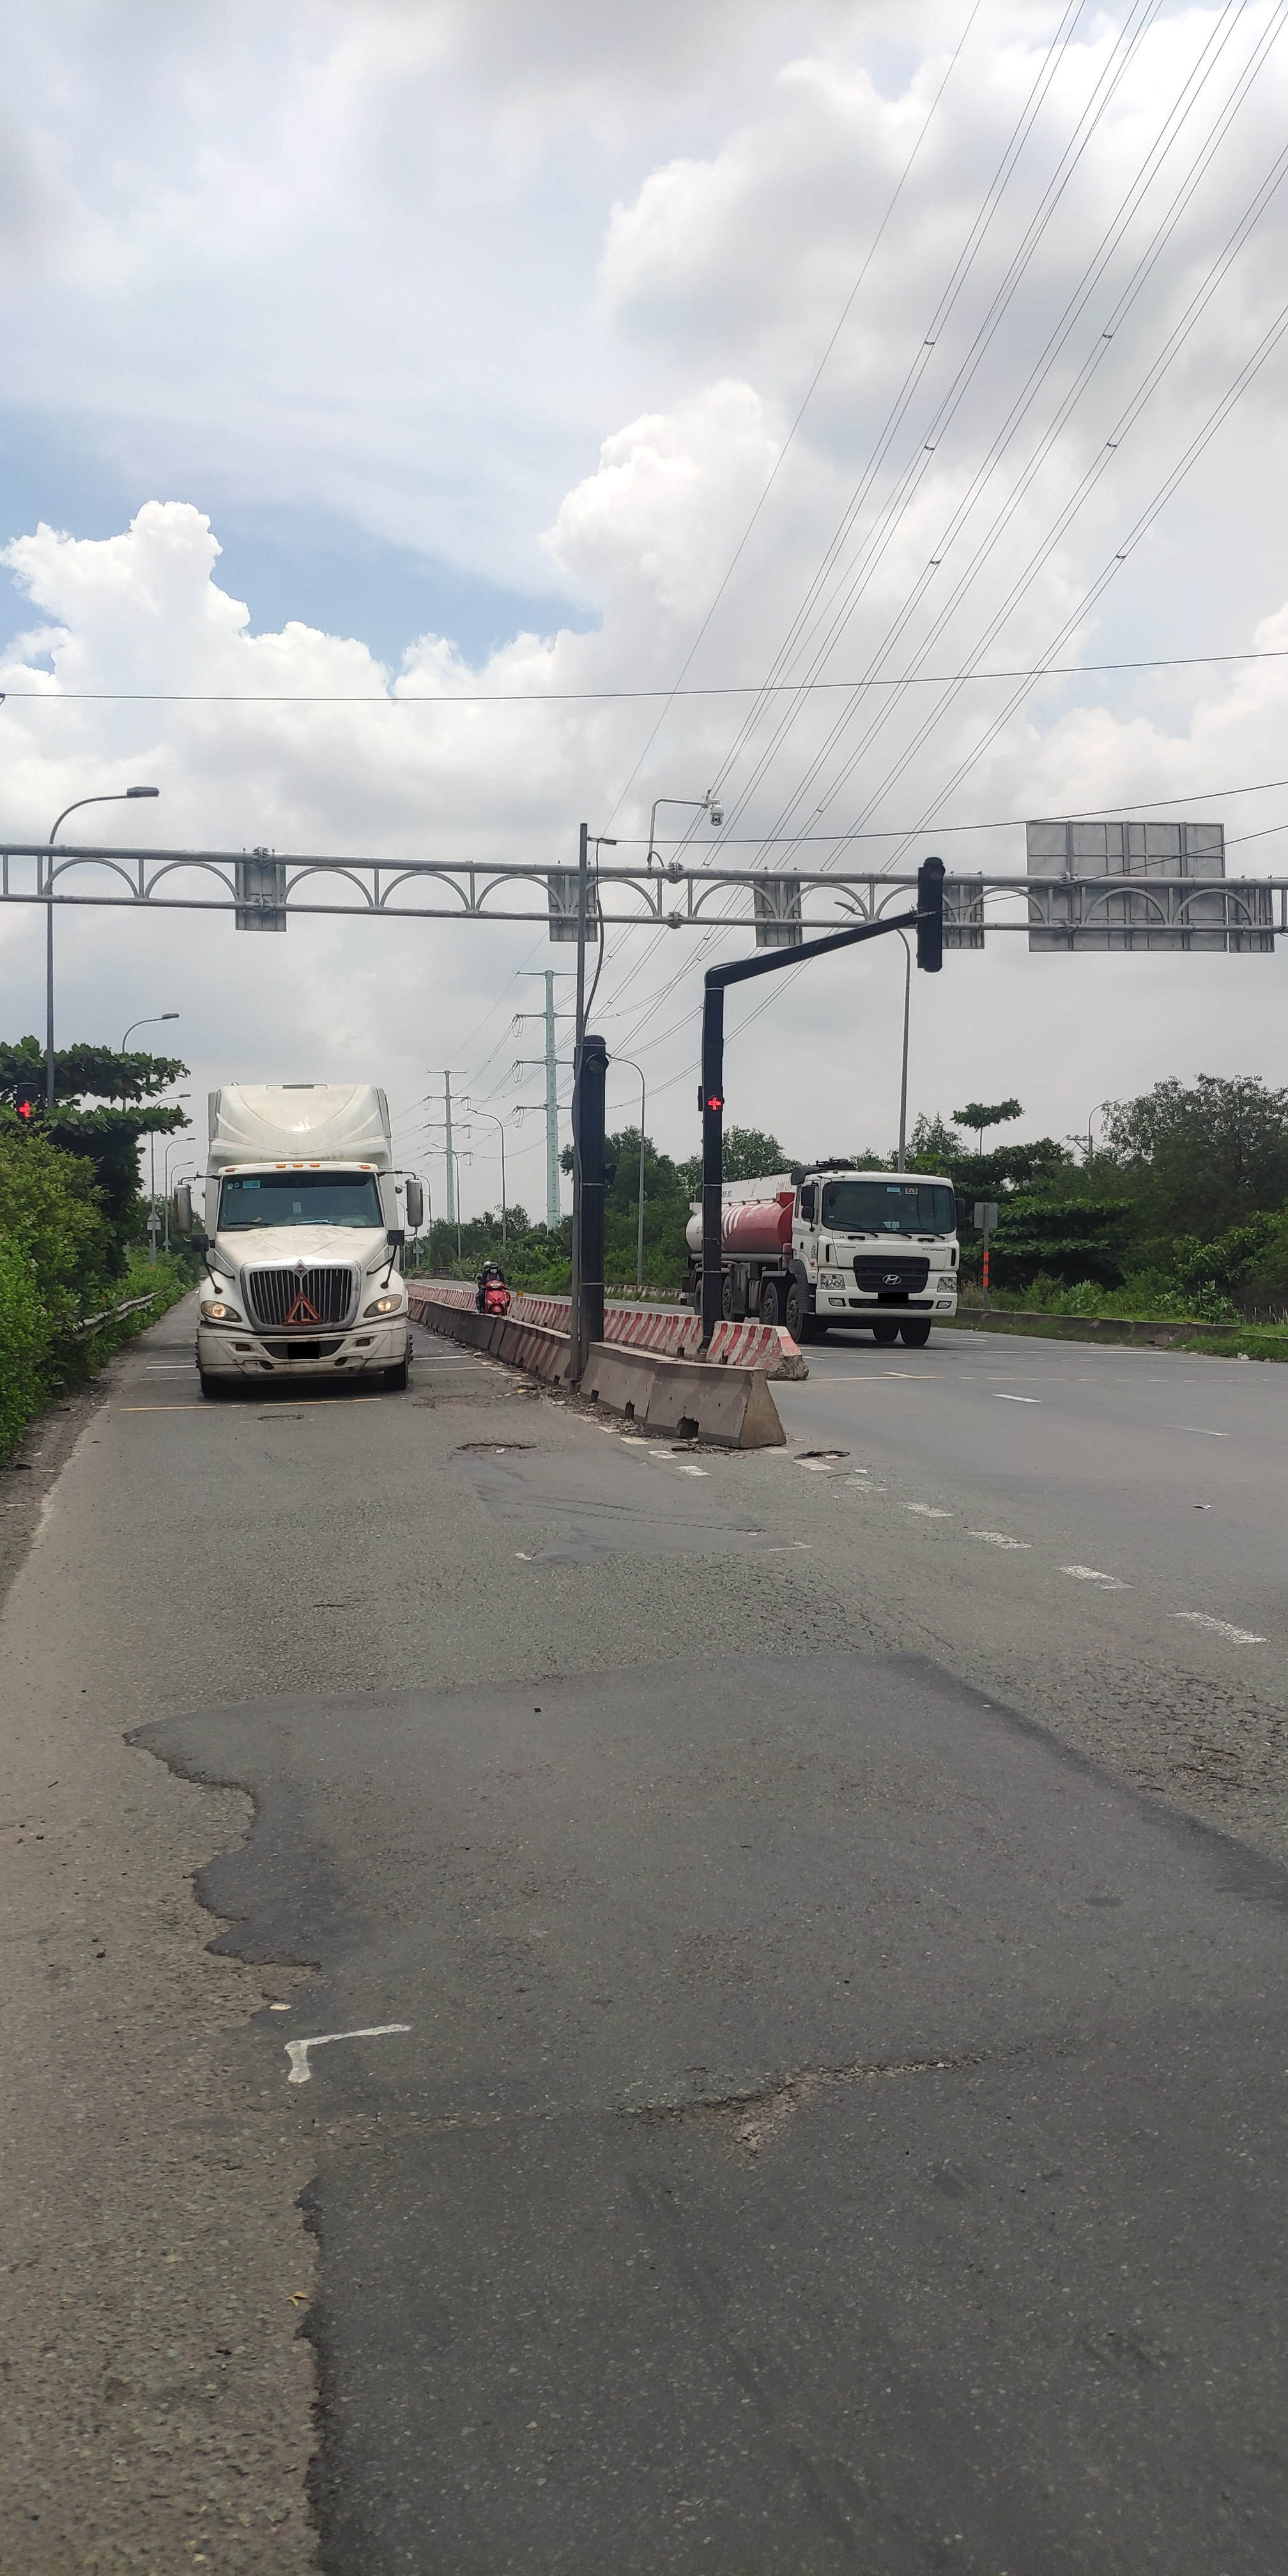hole: (690, 2055, 841, 2157), (452, 1434, 537, 1459), (407, 1391, 486, 1413), (250, 1411, 312, 1424)
